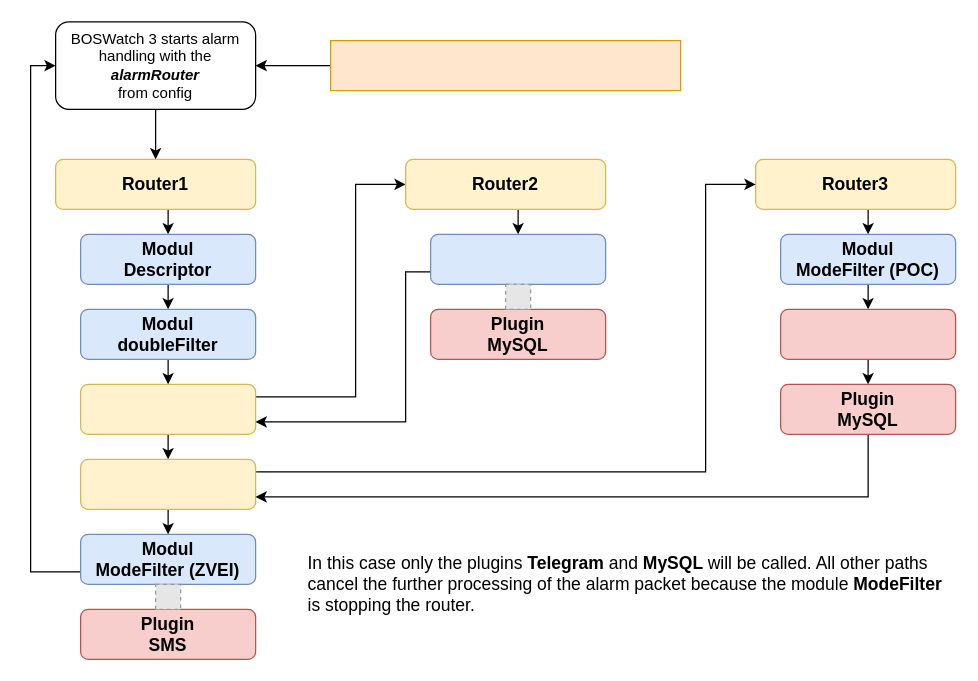
This 978x681 diagram has some shape labels left out. Grey dashed boxes stand in for pictures. Each missing label, with the centre of its shape:
"Alarm packet is from type POCSAG" goes at [505,65].
"call Router2" goes at [167,408].
"call Router3" goes at [167,483].
"Modul ModeFilter (FMS)" goes at [517,258].
"Plugin Telegram" goes at [867,333].
